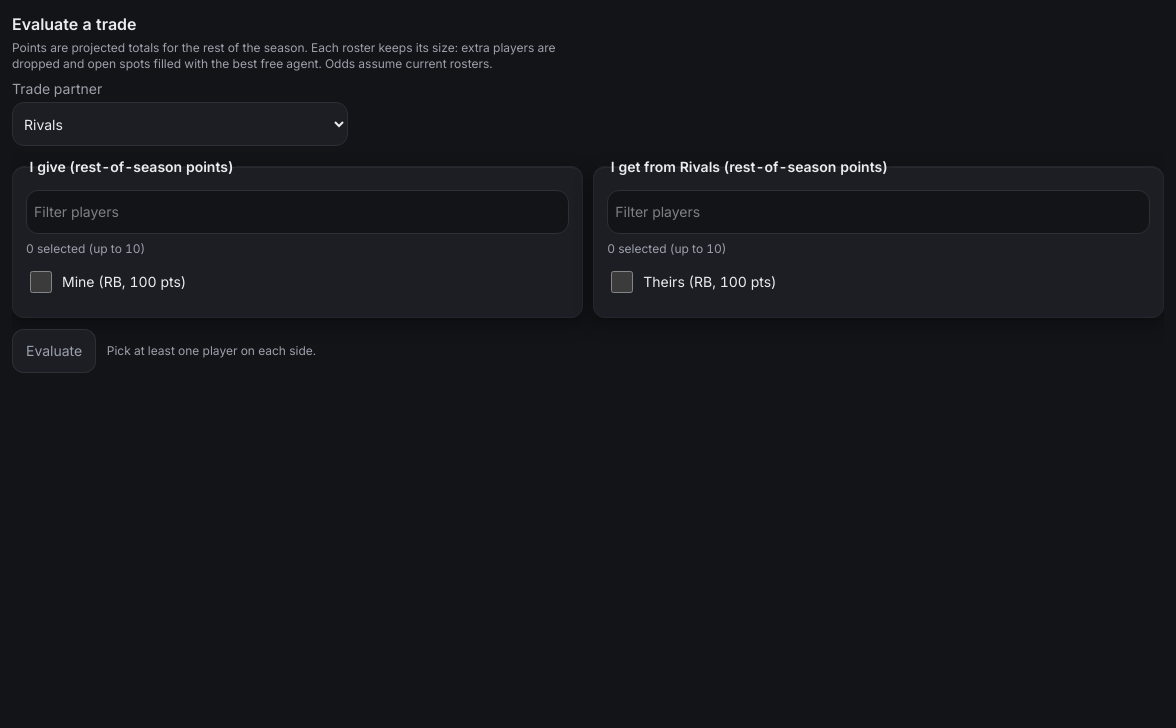
Scenario: evaluator › shows both sides, the roster-moves warning with the partner's drop, and a text equivalent
Click the checkbox labelled "Mine (RB, 100 pts)".
click(40, 282)  # box [30, 271, 52, 293]
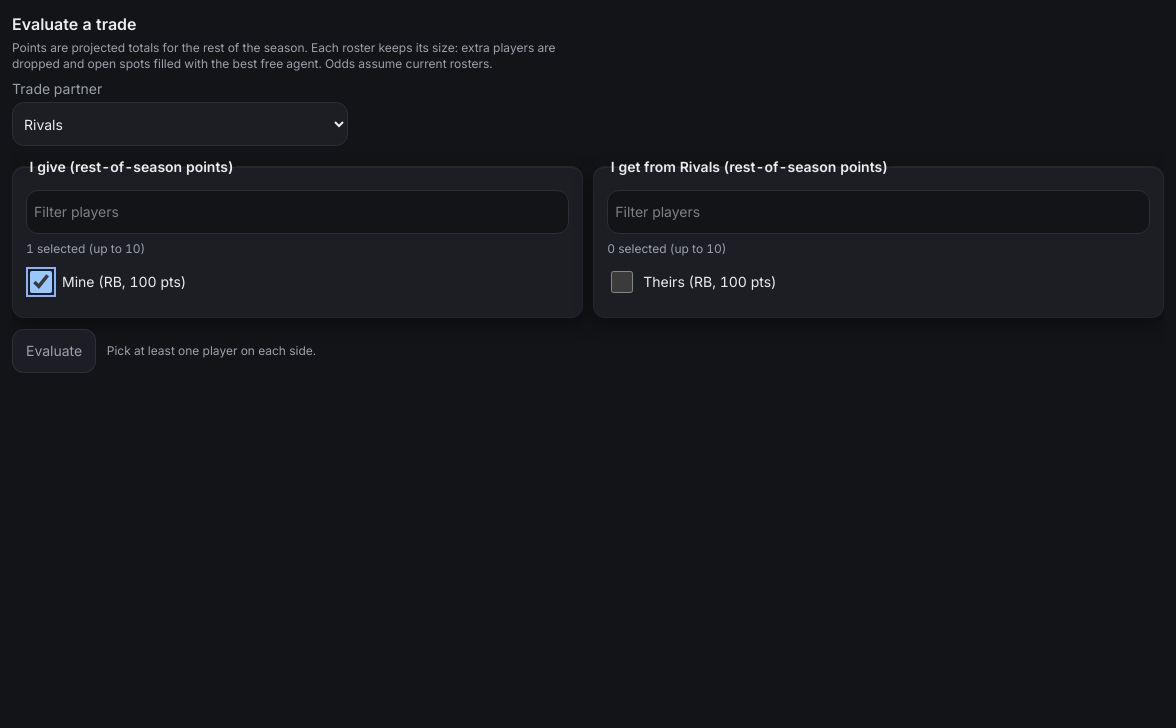
Click the checkbox labelled "Theirs (RB, 100 pts)".
click(622, 282)  # box [611, 271, 633, 293]
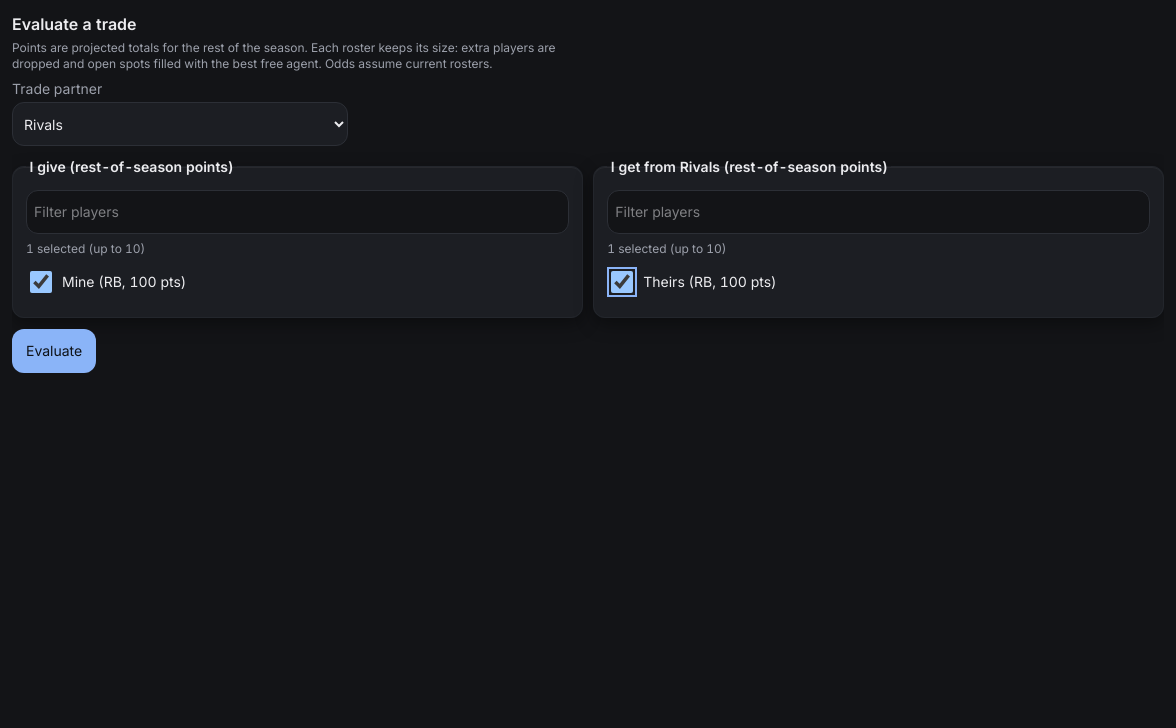
Click the button "Evaluate".
click(54, 350)  # box [12, 328, 96, 372]
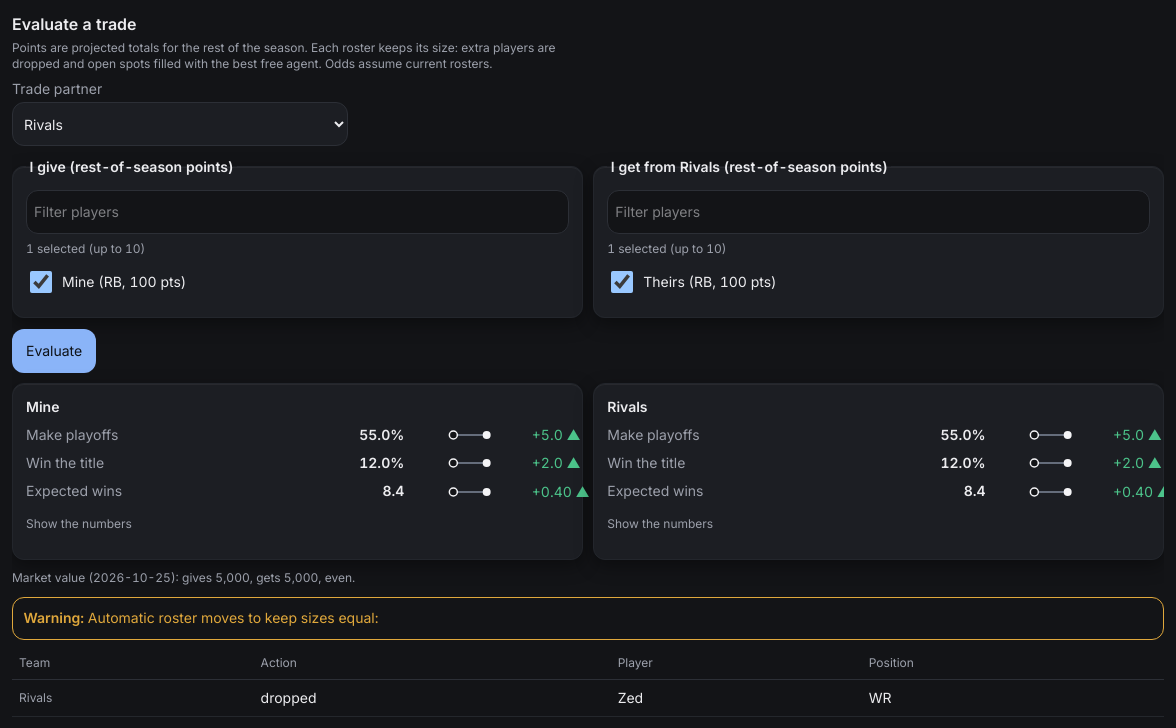
Now the text "Automatic roster moves to keep sizes equal:" is shown, box [88, 609, 378, 626]
Now the text "Zed" is shown, box [611, 680, 862, 716]
Now the number of pictures named "Make playoffs: 50.0% before, 55.0% after" is 2, box [415, 427, 525, 443]; [996, 427, 1106, 443]
